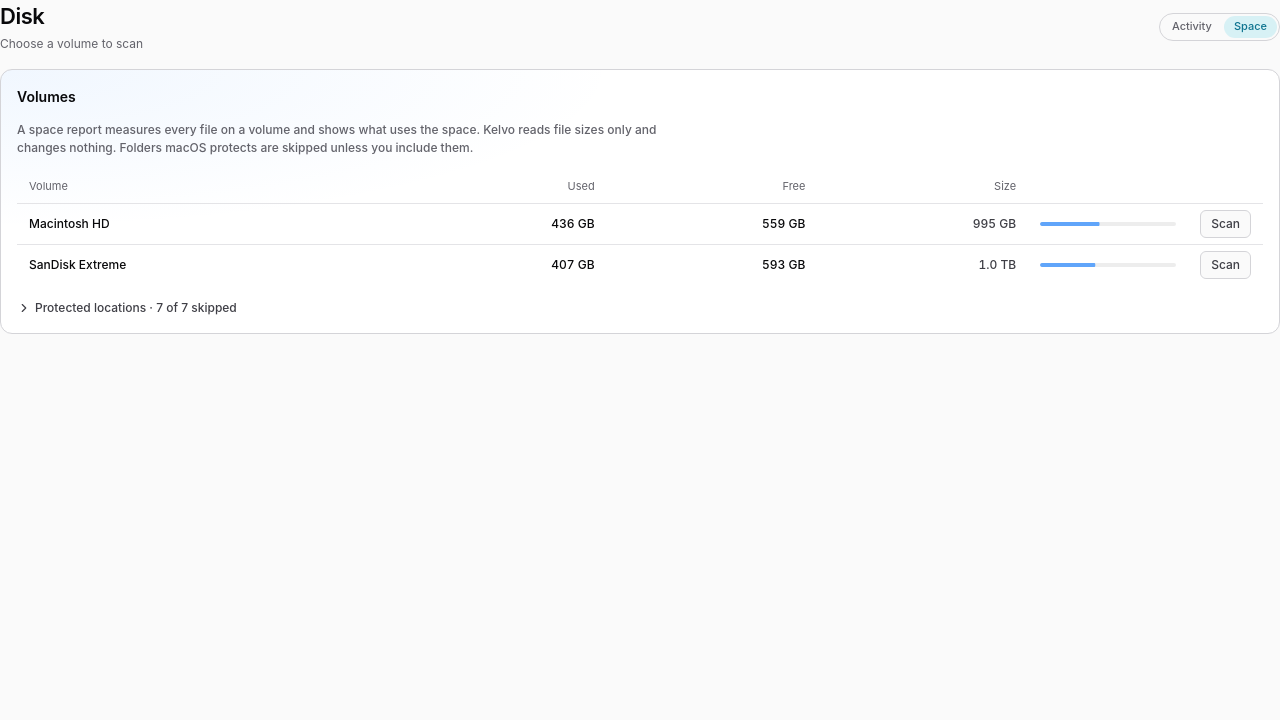
Test: Disk › Space outside a local scan › does not re-render a finished report on the 1 Hz tick
Click the button with aria-label "Scan Macintosh HD".
click(1226, 224)  # box [1200,210,1251,238]
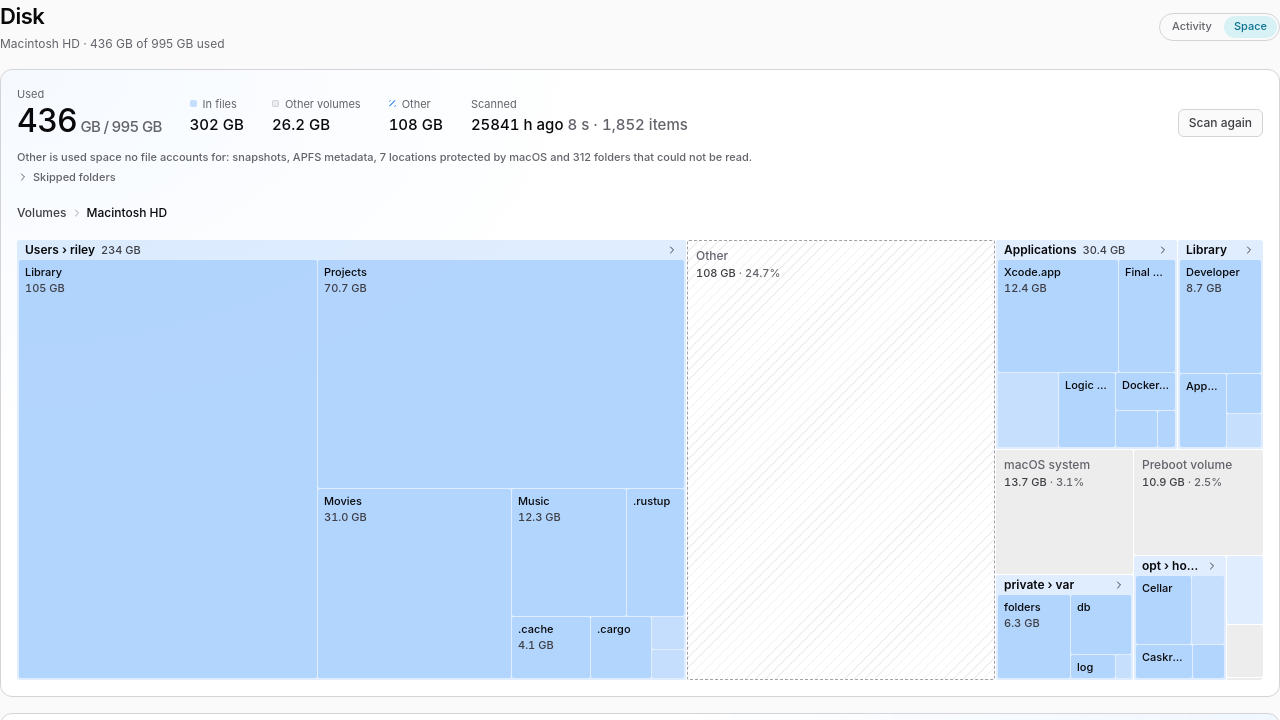
Result: the button "Scan again" is shown at [1178,108,1263,136]
